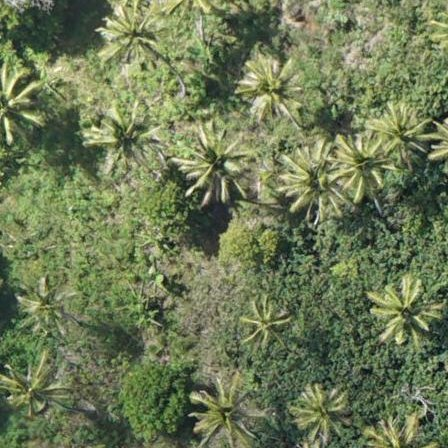palm_tree: (175, 123, 247, 199), (186, 374, 261, 442), (367, 276, 439, 346), (87, 103, 158, 173), (98, 1, 167, 69), (273, 143, 342, 211), (1, 353, 67, 421), (285, 381, 353, 444), (17, 278, 77, 341), (238, 59, 301, 117), (367, 103, 425, 161), (1, 65, 43, 144), (334, 133, 391, 188), (238, 297, 289, 345)
